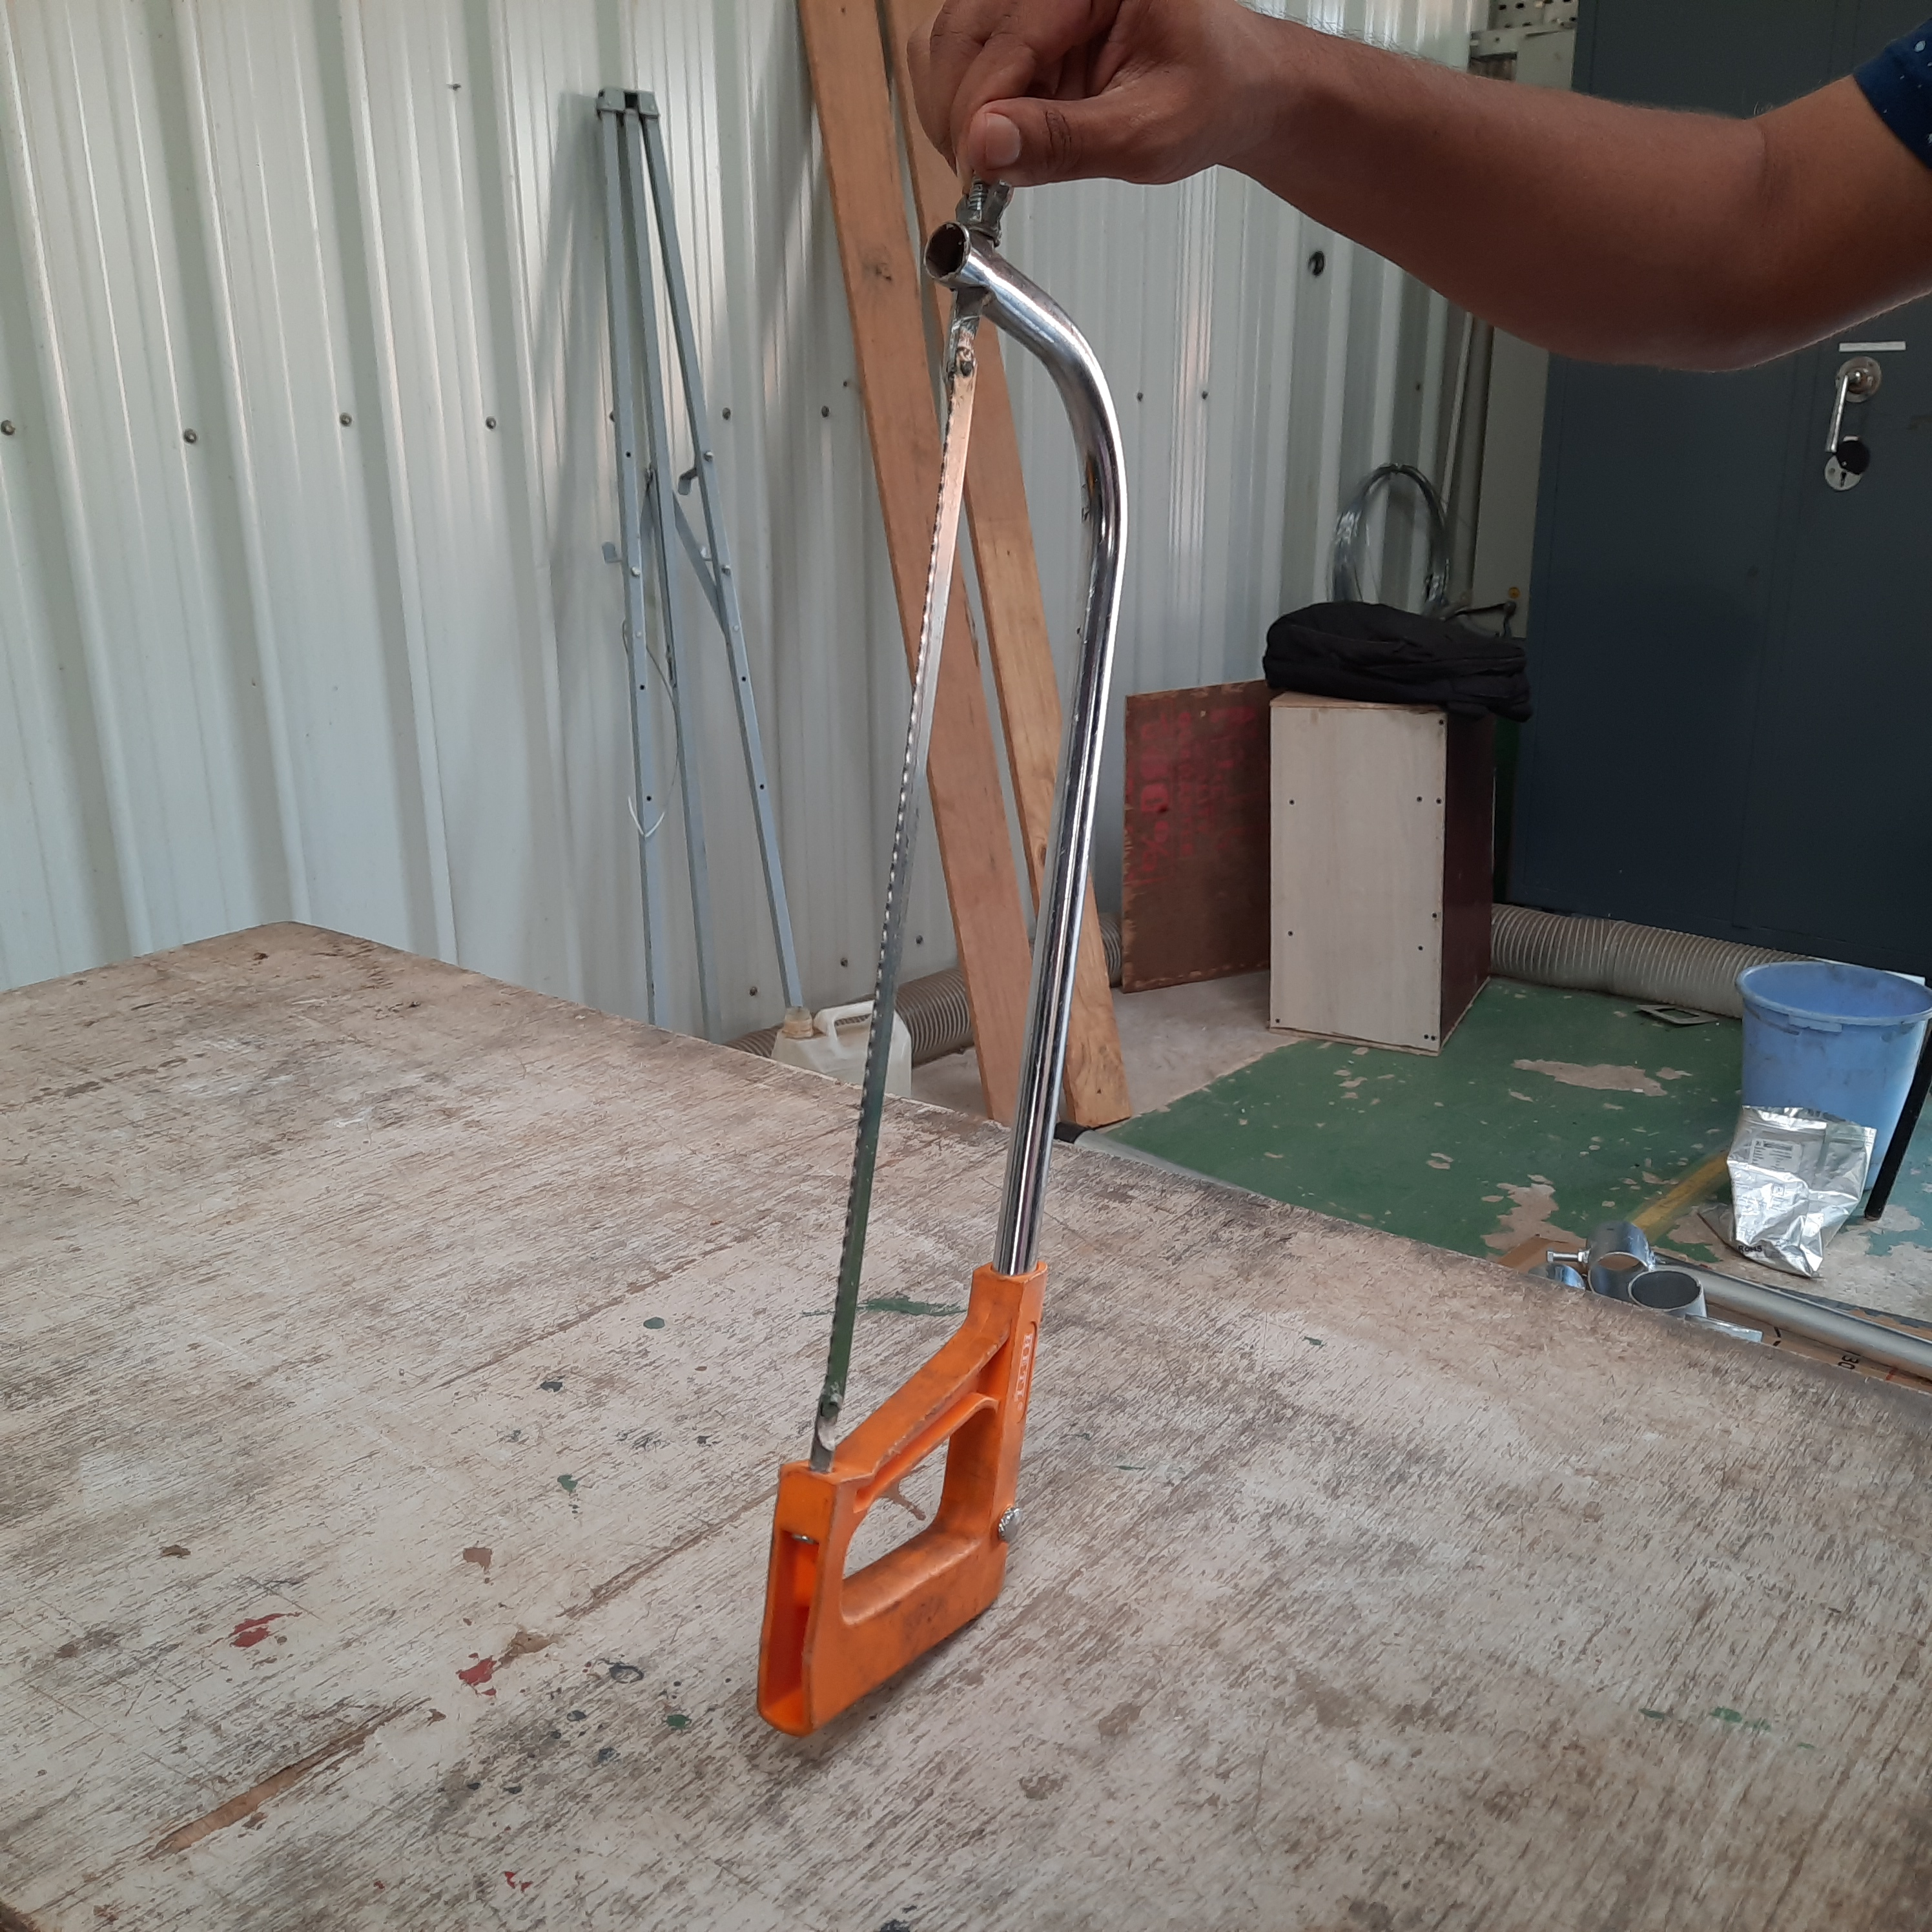Hexaframe: (766, 142, 1100, 1723)
